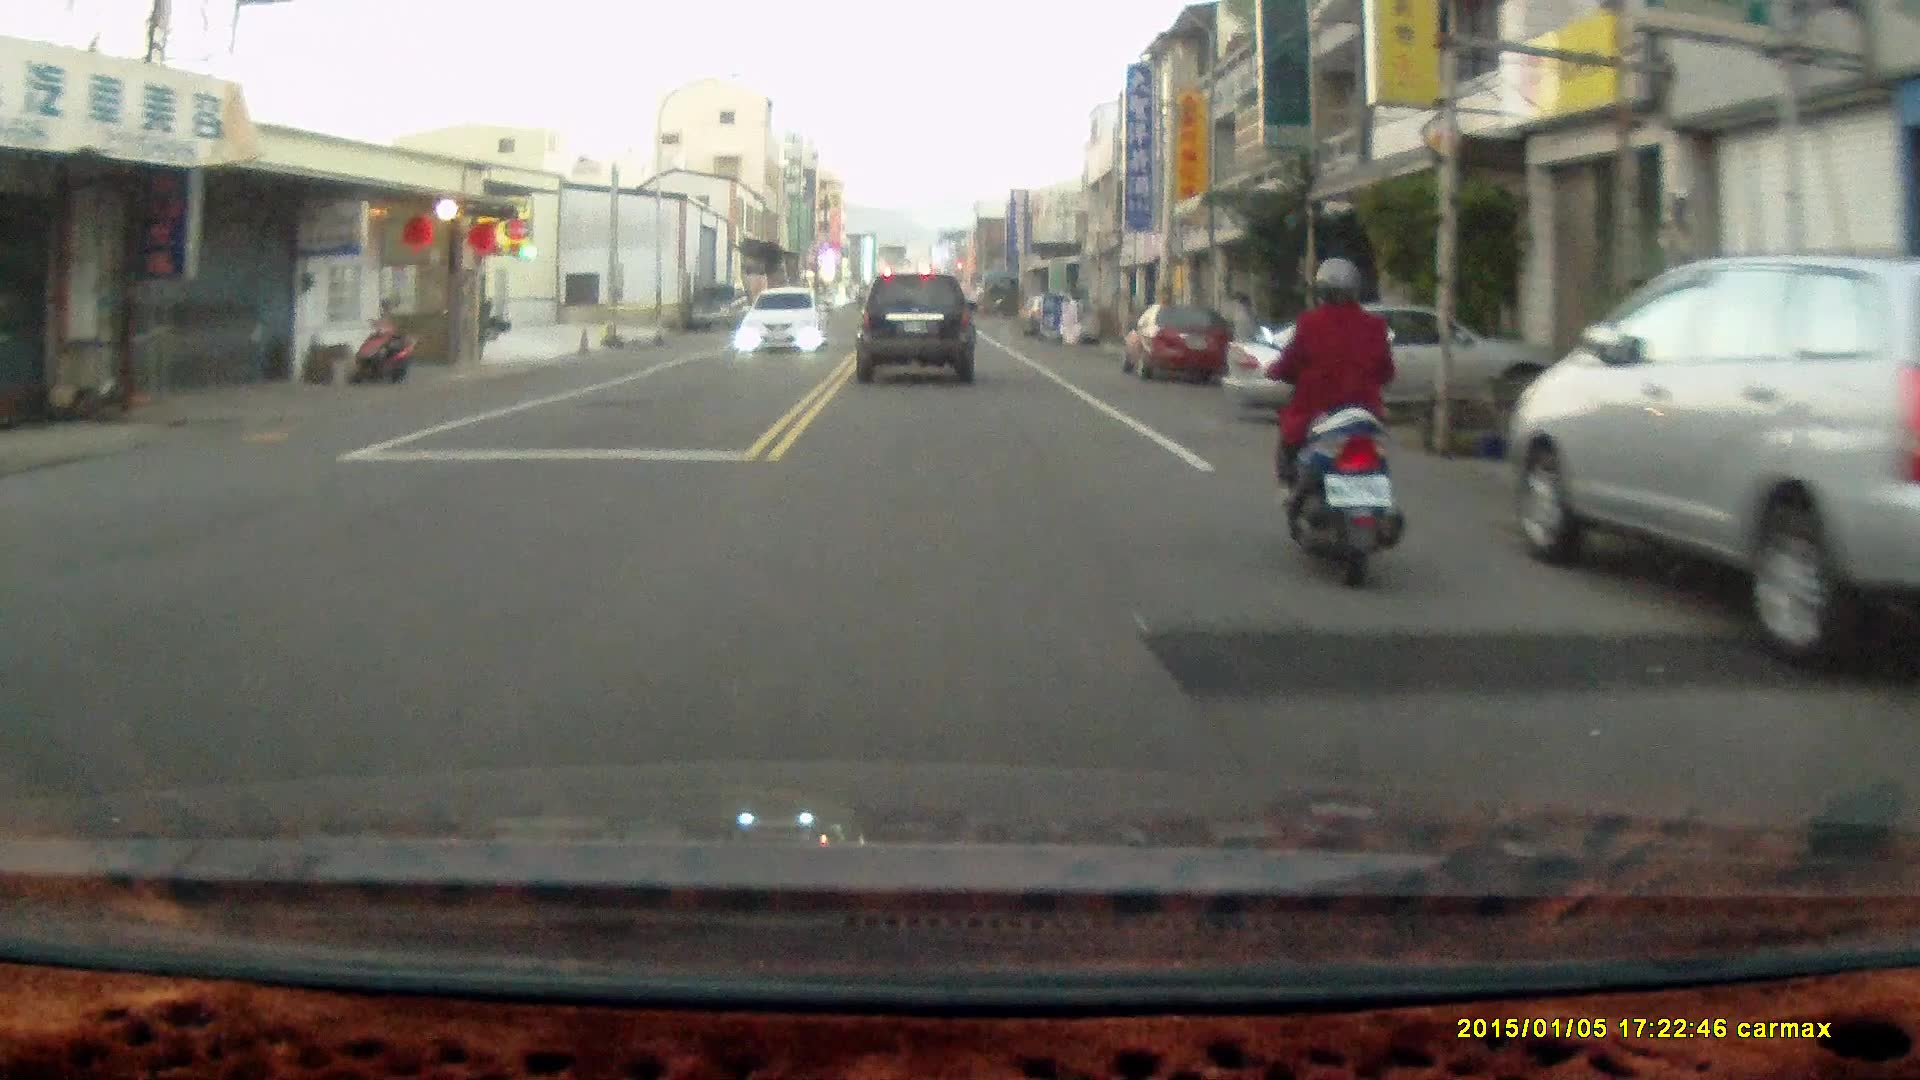rider: (1245, 257, 1410, 590)
vehicle: (1506, 248, 1915, 668), (1227, 300, 1541, 428), (856, 266, 981, 381), (1121, 302, 1239, 380), (738, 284, 831, 351), (689, 282, 750, 330)
